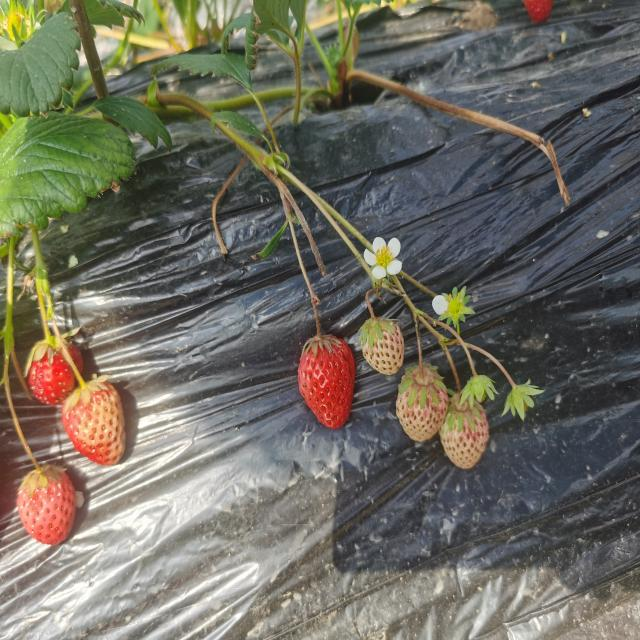stem: (63, 348, 89, 392), (23, 442, 43, 473), (40, 304, 54, 346), (312, 304, 322, 341)
strawberry: (62, 380, 126, 465), (298, 336, 355, 429), (17, 465, 77, 544), (29, 336, 84, 405)
